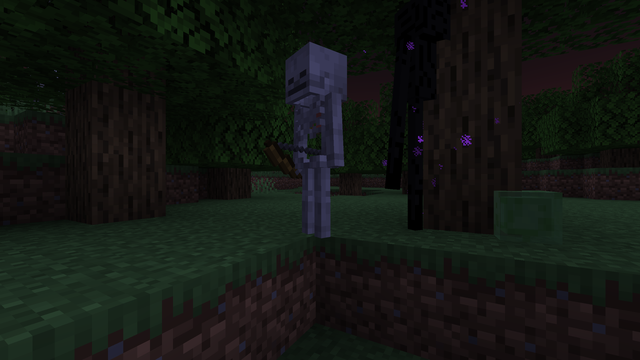endermens: (393, 0, 450, 235)
slimes: (491, 188, 561, 245)
squelettes: (277, 39, 349, 243)
